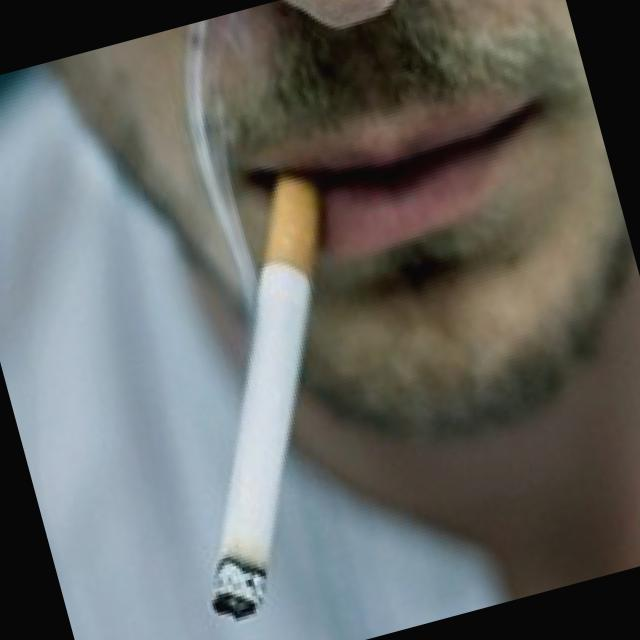smoke: (110, 177, 418, 628)
